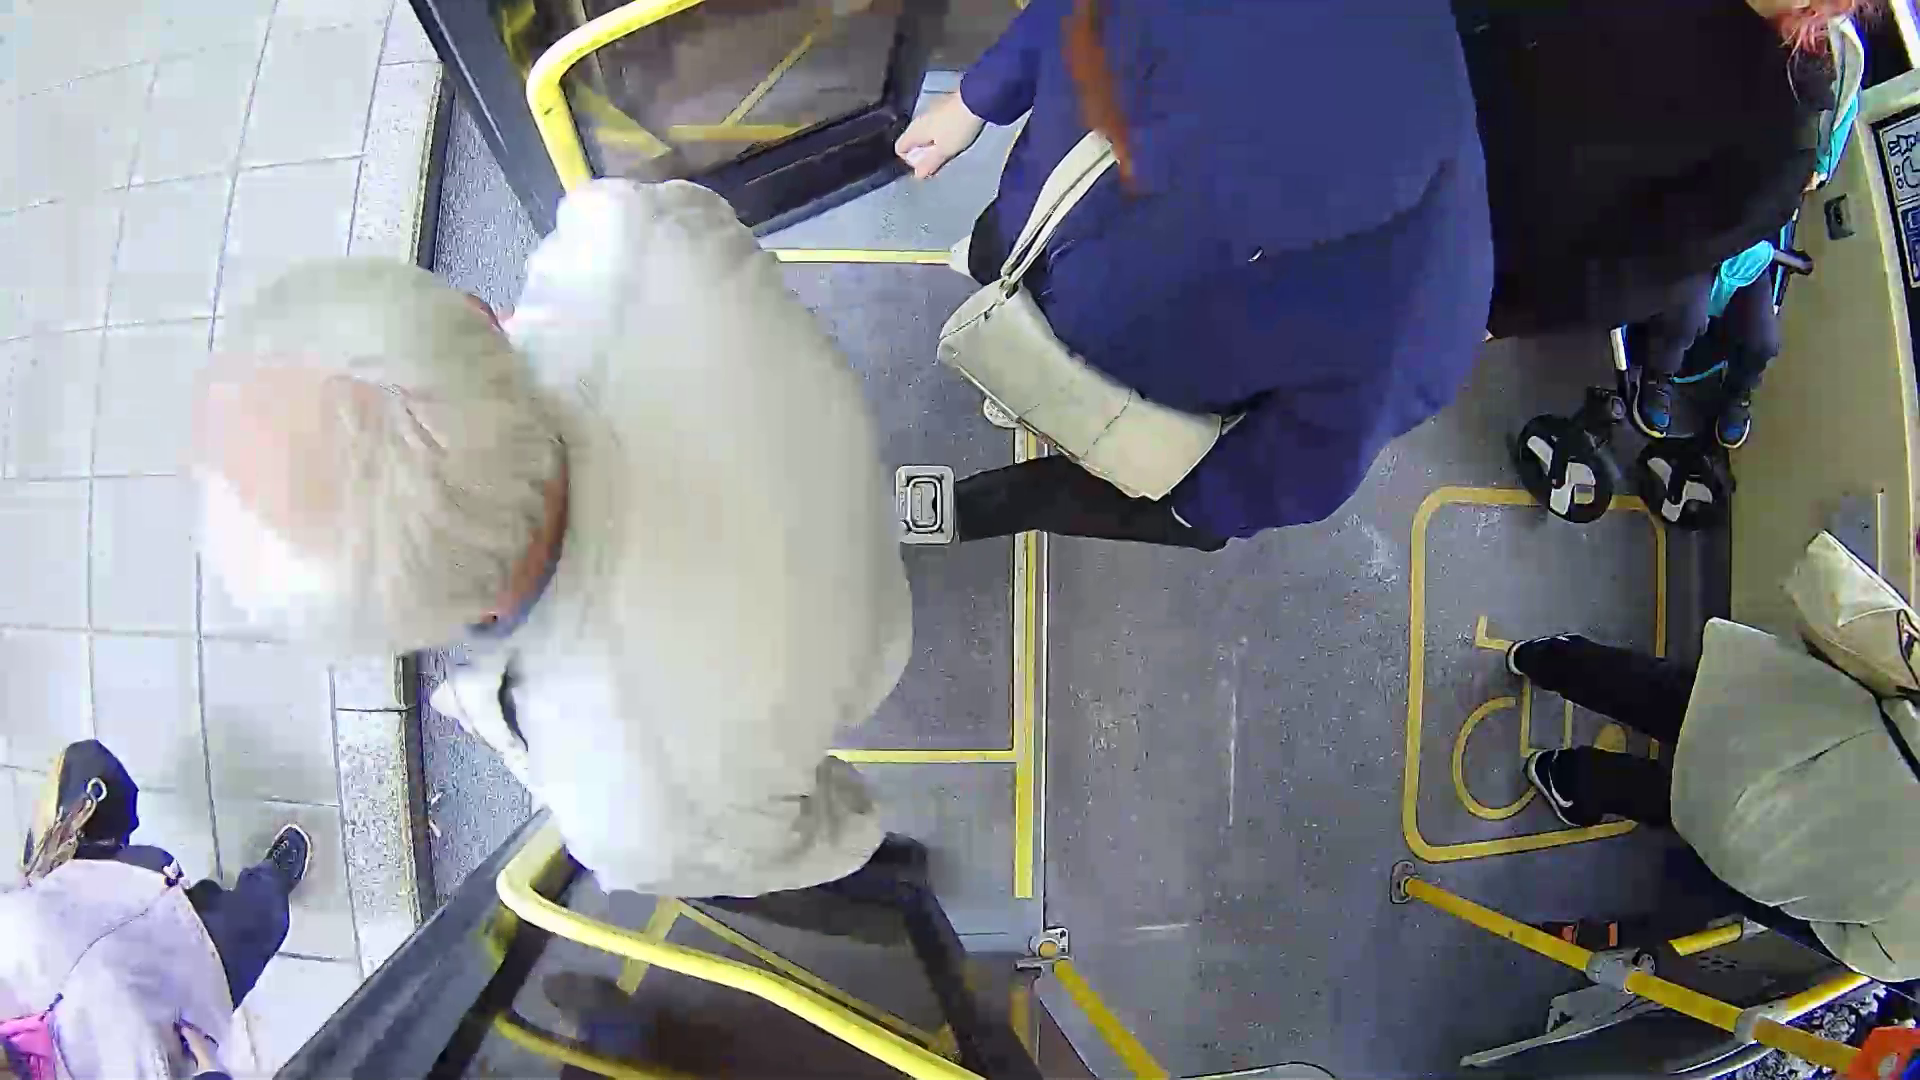person: (254, 173, 960, 864), (879, 15, 1624, 642)
